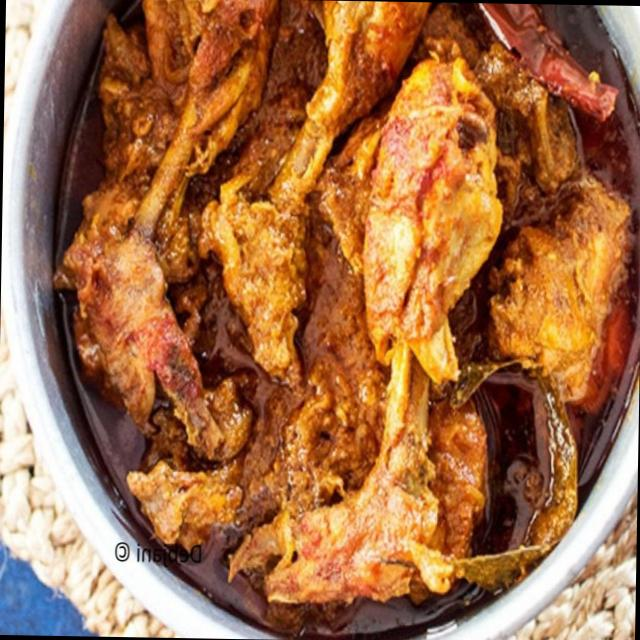chicken: (41, 4, 628, 634)
